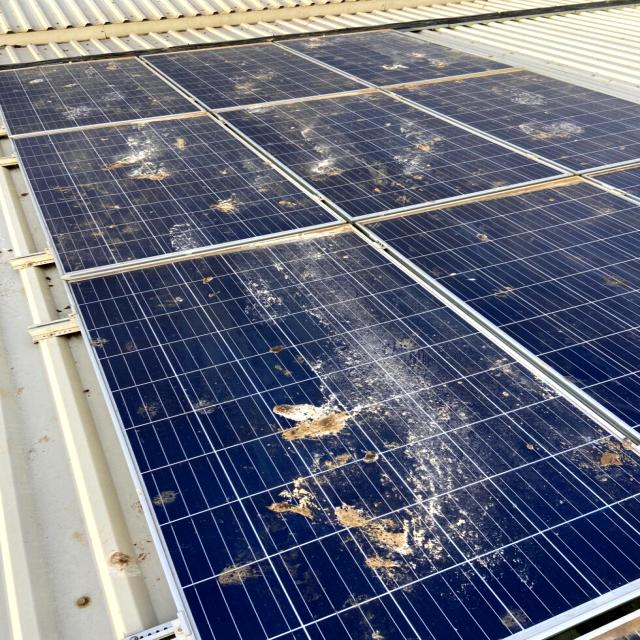bird: (257, 488, 517, 566), (253, 404, 401, 457), (516, 116, 619, 172), (91, 122, 190, 180), (290, 135, 368, 193), (223, 49, 286, 110), (352, 40, 484, 68), (588, 418, 636, 481), (210, 570, 282, 610), (178, 186, 248, 222), (471, 84, 568, 98)
